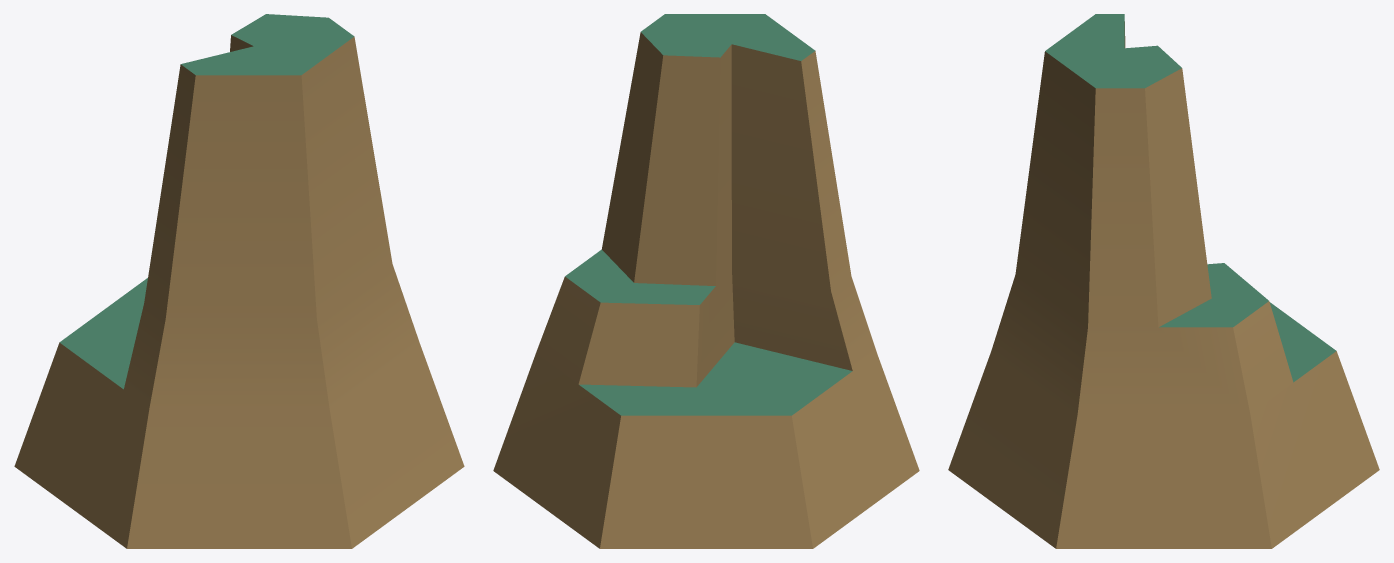
File: naturePack_132.fbx
3 views of the same model, side by side, from view 1: azimuth 30°, elevation 25°; view 2: azimuth 150°, elevation 25°; view 3: azimuth 270°, elevation 25° (orthographic). The views are drawn at different scales.
Visible parts, largest first — view 1: Mesh1_Tall_Rock_3 Model; view 2: Mesh1_Tall_Rock_3 Model; view 3: Mesh1_Tall_Rock_3 Model.
Part boxes in pixels (x1=…): Mesh1_Tall_Rock_3 Model: x1=14, y1=14, x2=464, y2=548; Mesh1_Tall_Rock_3 Model: x1=493, y1=14, x2=919, y2=548; Mesh1_Tall_Rock_3 Model: x1=948, y1=14, x2=1379, y2=548.
Bounding box in the file's own units: 1.59 × 1.97 × 1.84.
